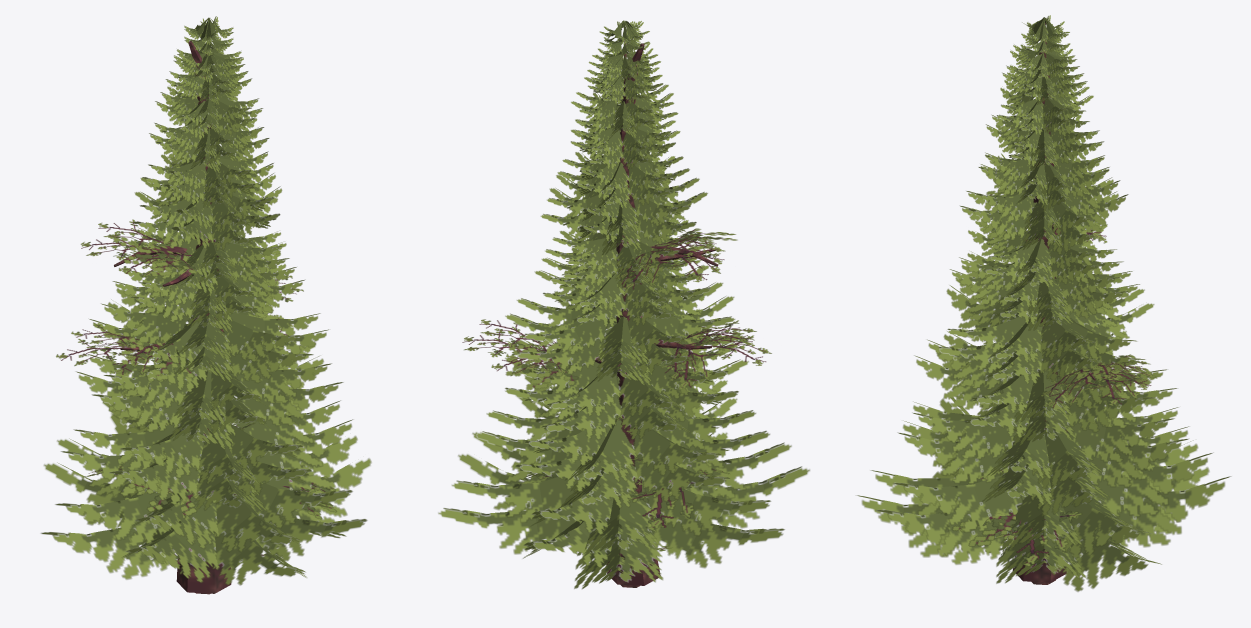
Rendered from long_grass_02.glb.
3 renders of one model, left to right at view 1: azimuth 30°, elevation 25°; view 2: azimuth 150°, elevation 25°; view 3: azimuth 270°, elevation 25°, orthographic.
Visible parts, largest first — view 1: spiky_tree, tree_01, trunk_04; view 2: spiky_tree, tree_01, trunk_04; view 3: spiky_tree, tree_01, trunk_04, trunk_01.
Boxes of the visible parts, bbox=[...] form: spiky_tree: bbox=[40, 16, 371, 585]; tree_01: bbox=[56, 41, 336, 519]; trunk_04: bbox=[176, 548, 231, 593]; spiky_tree: bbox=[438, 20, 809, 589]; tree_01: bbox=[462, 43, 771, 530]; trunk_04: bbox=[606, 554, 660, 585]; spiky_tree: bbox=[856, 15, 1231, 591]; tree_01: bbox=[952, 41, 1157, 566]; trunk_04: bbox=[1012, 522, 1066, 582]; trunk_01: bbox=[952, 511, 1081, 565].
Bounding box in the file's own units: 26.38 × 43.36 × 26.91.
10 materials, 10 textured.
